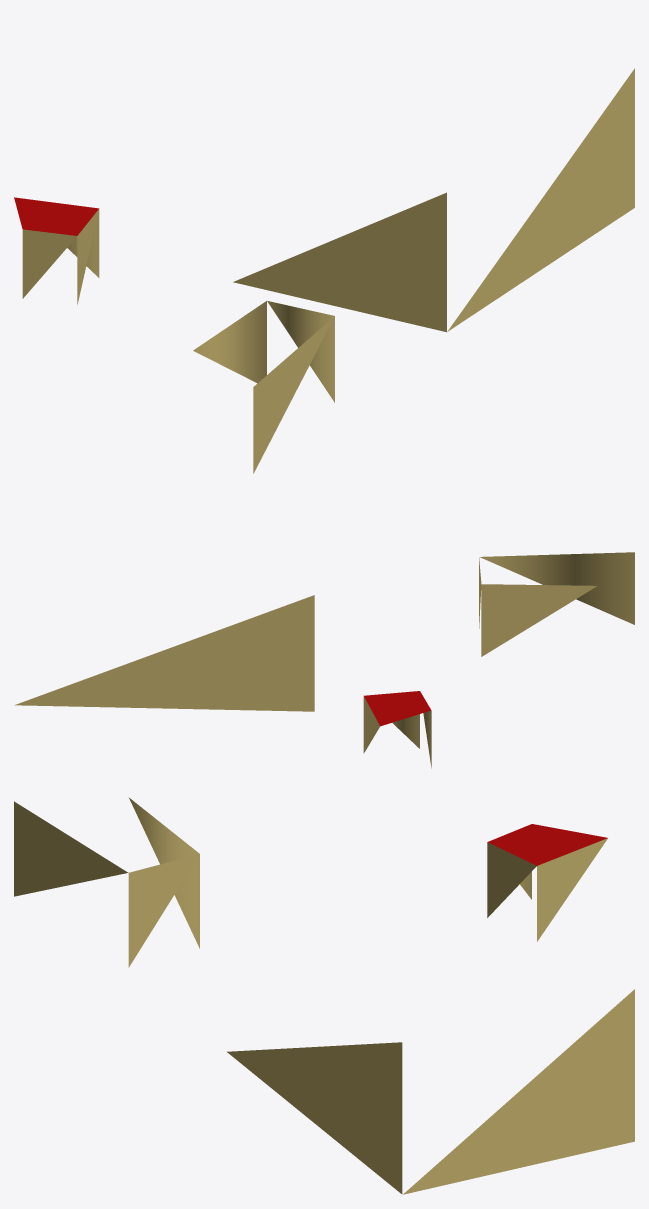
3 renders of one model, top to bottom at view 1: azimuth 30°, elevation 25°; view 2: azimuth 150°, elevation 25°; view 3: azimuth 270°, elevation 25°, orthographic. The views are drawn at different scales.
Size of the model in its own units: 84.96 by 20 by 73.74.
